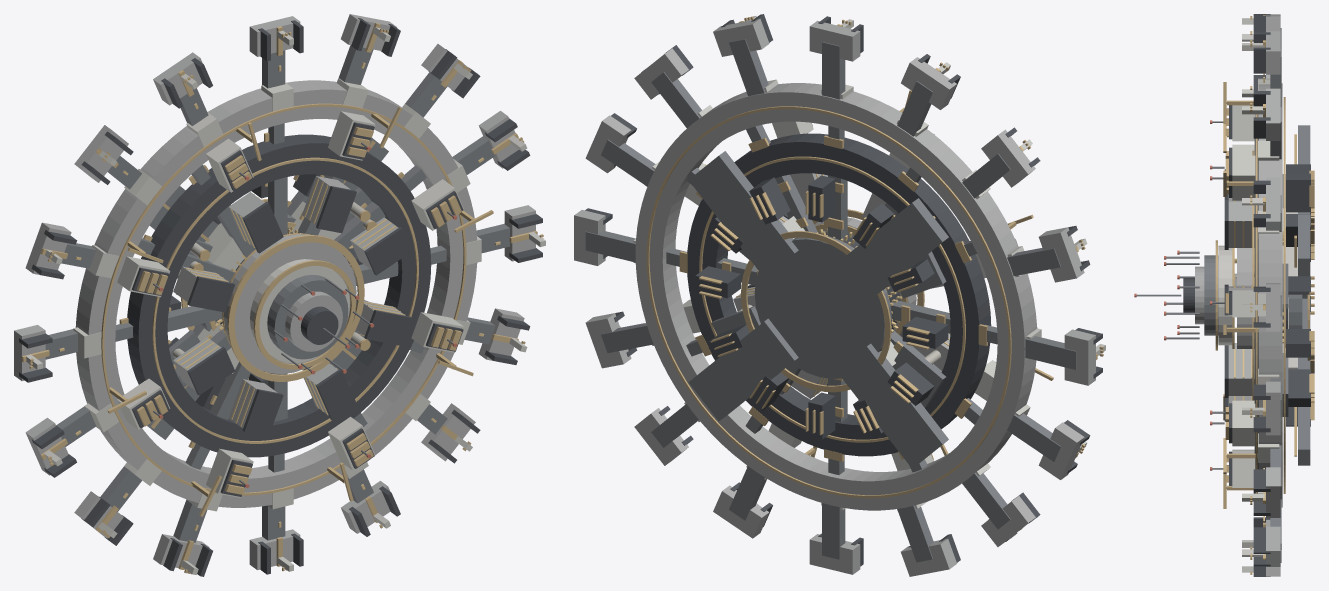
Rendered from star_bazaar_station.glb.
The picture shows the model from 3 angles, left to right: view 1: azimuth 30°, elevation 25°; view 2: azimuth 150°, elevation 25°; view 3: azimuth 270°, elevation 25°; orthographic projection. The views are drawn at different scales.
Visible parts, largest first — view 1: marketplace_mid_deck_000, command_tower_001, command_tower_000, command_tower_002, habitation_module_roof_005, habitation_module_roof_001, habitation_module_roof_000, habitation_module_roof_004, docking_berth_platform_006, habitation_module_roof_003, habitation_module_roof_002, habitation_module_roof_006 (+43 smaller); view 2: central_lower_deck_000, primary_cargo_approach_000, primary_cargo_approach_002, primary_cargo_approach_001, primary_cargo_approach_003, docking_berth_platform_007, docking_berth_platform_005, docking_berth_platform_004, docking_berth_platform_008, docking_berth_platform_006, docking_berth_platform_009, docking_berth_platform_003 (+39 smaller); view 3: command_tower_000, habitation_module_007, habitation_module_001, marketplace_mid_deck_000, command_tower_001, cargo_warehouse_007, underdeck_power_module_003, cargo_warehouse_001, primary_cargo_approach_003, underdeck_power_module_011, primary_cargo_approach_000, cargo_warehouse_006 (+39 smaller).
Part boxes in pixels (bbox=[...]): marketplace_mid_deck_000: bbox=[223, 234, 356, 374]; command_tower_001: bbox=[267, 275, 348, 359]; command_tower_000: bbox=[250, 259, 349, 363]; command_tower_002: bbox=[285, 291, 342, 351]; habitation_module_roof_005: bbox=[242, 389, 283, 436]; habitation_module_roof_001: bbox=[316, 186, 356, 233]; habitation_module_roof_000: bbox=[364, 227, 411, 275]; habitation_module_roof_004: bbox=[187, 347, 234, 395]; docking_berth_platform_006: bbox=[74, 125, 128, 182]; habitation_module_roof_003: bbox=[187, 276, 235, 312]; habitation_module_roof_002: bbox=[242, 201, 283, 253]; habitation_module_roof_006: bbox=[316, 369, 356, 420]; central_lower_deck_000: bbox=[754, 235, 891, 378]; primary_cargo_approach_000: bbox=[688, 151, 798, 277]; primary_cargo_approach_002: bbox=[836, 343, 948, 468]; primary_cargo_approach_001: bbox=[836, 198, 948, 302]; primary_cargo_approach_003: bbox=[688, 318, 798, 421]; docking_berth_platform_007: bbox=[1038, 227, 1084, 282]; docking_berth_platform_005: bbox=[901, 57, 956, 109]; docking_berth_platform_004: bbox=[809, 20, 860, 61]; docking_berth_platform_008: bbox=[1064, 329, 1095, 385]; docking_berth_platform_006: bbox=[981, 129, 1035, 187]; docking_berth_platform_009: bbox=[1038, 422, 1084, 479]; docking_berth_platform_003: bbox=[713, 18, 769, 56]; command_tower_000: bbox=[1218, 245, 1232, 345]; habitation_module_007: bbox=[1228, 349, 1254, 395]; habitation_module_001: bbox=[1228, 201, 1254, 247]; marketplace_mid_deck_000: bbox=[1237, 248, 1252, 348]; command_tower_001: bbox=[1204, 255, 1218, 335]; cargo_warehouse_007: bbox=[1232, 400, 1255, 446]; underdeck_power_module_003: bbox=[1286, 173, 1310, 212]; cargo_warehouse_001: bbox=[1232, 155, 1255, 200]; primary_cargo_approach_003: bbox=[1298, 357, 1310, 465]; underdeck_power_module_011: bbox=[1288, 369, 1310, 406]; primary_cargo_approach_000: bbox=[1298, 214, 1310, 298]; cargo_warehouse_006: bbox=[1232, 449, 1255, 487].
Bounding box in the file's own units: 2930 × 2930 × 941.
